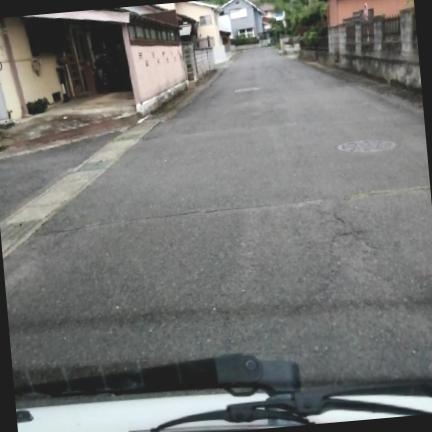Road: (3, 49, 431, 384)
